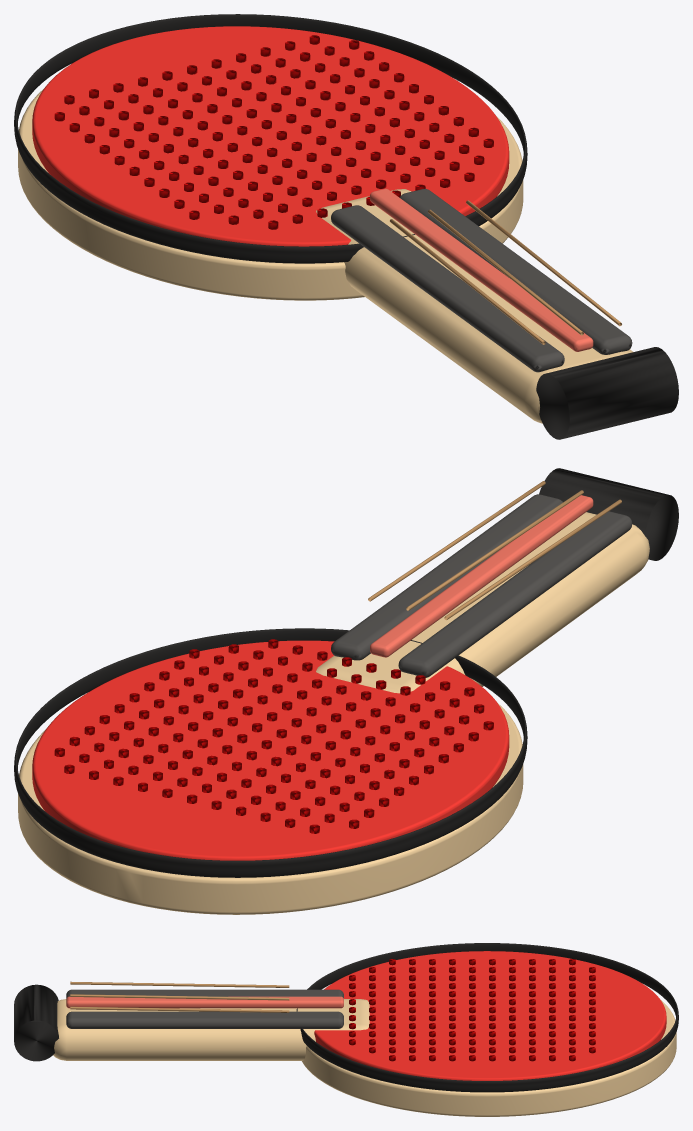
Rendered from Tischtennisschlaeger_3D_v2.glb.
3 renders of one model, top to bottom at view 1: azimuth 30°, elevation 25°; view 2: azimuth 150°, elevation 25°; view 3: azimuth 270°, elevation 25°, orthographic. The views are drawn at different scales.
Visible parts, largest first — view 1: Tischtennisschlaeger_3D_v2__web_red_pebbled_table_tennis_rub, Tischtennisschlaeger_3D_v2__web_pale_laminated_table_tennis_, Tischtennisschlaeger_3D_v2__web_black_table_tennis_paddle_ed, Tischtennisschlaeger_3D_v2__web_darker_red_raised_table_tenn, Tischtennisschlaeger_3D_v2__web_black_table_tennis_handle_gr, Tischtennisschlaeger_3D_v2__web_white_and_red_table_tennis_h, Tischtennisschlaeger_3D_v2__web_v2_extra_handle_laminated_ta; view 2: Tischtennisschlaeger_3D_v2__web_red_pebbled_table_tennis_rub, Tischtennisschlaeger_3D_v2__web_pale_laminated_table_tennis_, Tischtennisschlaeger_3D_v2__web_black_table_tennis_paddle_ed, Tischtennisschlaeger_3D_v2__web_darker_red_raised_table_tenn, Tischtennisschlaeger_3D_v2__web_black_table_tennis_handle_gr, Tischtennisschlaeger_3D_v2__web_white_and_red_table_tennis_h, Tischtennisschlaeger_3D_v2__web_v2_extra_handle_laminated_ta; view 3: Tischtennisschlaeger_3D_v2__web_red_pebbled_table_tennis_rub, Tischtennisschlaeger_3D_v2__web_pale_laminated_table_tennis_, Tischtennisschlaeger_3D_v2__web_black_table_tennis_paddle_ed, Tischtennisschlaeger_3D_v2__web_black_table_tennis_handle_gr, Tischtennisschlaeger_3D_v2__web_darker_red_raised_table_tenn, Tischtennisschlaeger_3D_v2__web_white_and_red_table_tennis_h, Tischtennisschlaeger_3D_v2__web_v2_extra_handle_laminated_ta.
Boxes of the visible parts, <box> form: Tischtennisschlaeger_3D_v2__web_red_pebbled_table_tennis_rub: <box>32,26,509,246</box>; Tischtennisschlaeger_3D_v2__web_pale_laminated_table_tennis_: <box>18,89,633,423</box>; Tischtennisschlaeger_3D_v2__web_black_table_tennis_paddle_ed: <box>14,14,678,439</box>; Tischtennisschlaeger_3D_v2__web_darker_red_raised_table_tenn: <box>54,35,493,229</box>; Tischtennisschlaeger_3D_v2__web_black_table_tennis_handle_gr: <box>331,188,632,372</box>; Tischtennisschlaeger_3D_v2__web_white_and_red_table_tennis_h: <box>370,188,593,351</box>; Tischtennisschlaeger_3D_v2__web_v2_extra_handle_laminated_ta: <box>390,200,621,344</box>; Tischtennisschlaeger_3D_v2__web_red_pebbled_table_tennis_rub: <box>32,640,509,860</box>; Tischtennisschlaeger_3D_v2__web_pale_laminated_table_tennis_: <box>18,512,649,914</box>; Tischtennisschlaeger_3D_v2__web_black_table_tennis_paddle_ed: <box>14,468,678,877</box>; Tischtennisschlaeger_3D_v2__web_darker_red_raised_table_tenn: <box>54,639,493,833</box>; Tischtennisschlaeger_3D_v2__web_black_table_tennis_handle_gr: <box>331,494,632,677</box>; Tischtennisschlaeger_3D_v2__web_white_and_red_table_tennis_h: <box>370,495,593,657</box>; Tischtennisschlaeger_3D_v2__web_v2_extra_handle_laminated_ta: <box>368,481,621,619</box>; Tischtennisschlaeger_3D_v2__web_red_pebbled_table_tennis_rub: <box>314,951,666,1080</box>; Tischtennisschlaeger_3D_v2__web_pale_laminated_table_tennis_: <box>53,999,676,1116</box>; Tischtennisschlaeger_3D_v2__web_black_table_tennis_paddle_ed: <box>14,943,678,1092</box>; Tischtennisschlaeger_3D_v2__web_black_table_tennis_handle_gr: <box>66,989,343,1028</box>; Tischtennisschlaeger_3D_v2__web_darker_red_raised_table_tenn: <box>349,959,595,1061</box>; Tischtennisschlaeger_3D_v2__web_white_and_red_table_tennis_h: <box>66,996,343,1008</box>; Tischtennisschlaeger_3D_v2__web_v2_extra_handle_laminated_ta: <box>70,981,289,1012</box>.
Bounding box in the file's own units: 0.3909 × 0.0724 × 0.7897.
